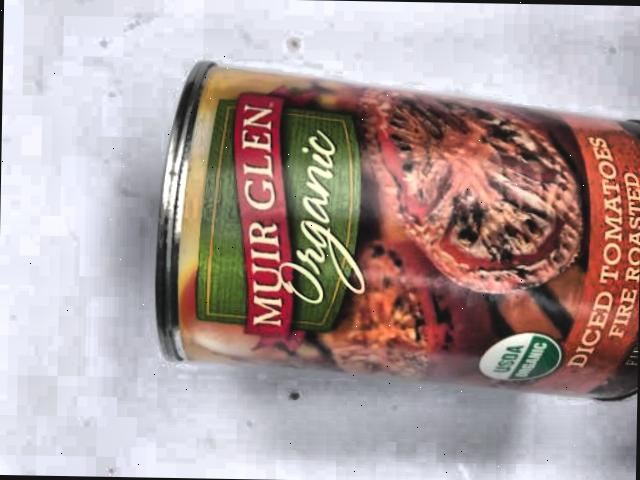Almennt: (131, 15, 640, 480)
